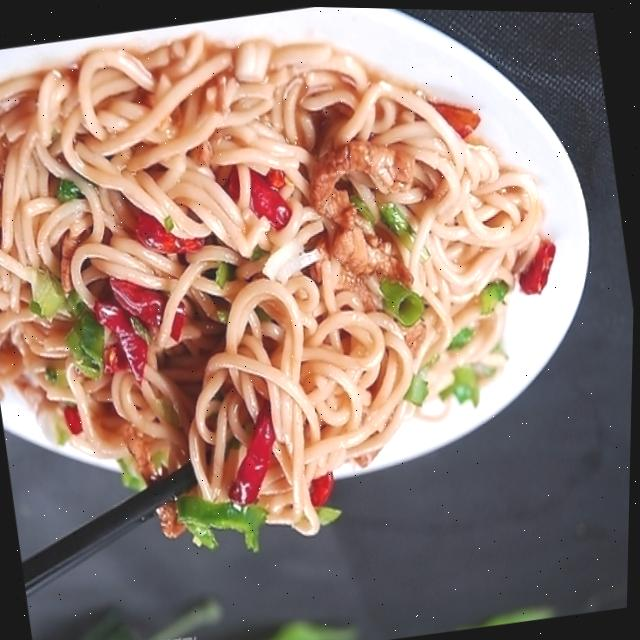面条主食: (0, 0, 601, 630)
